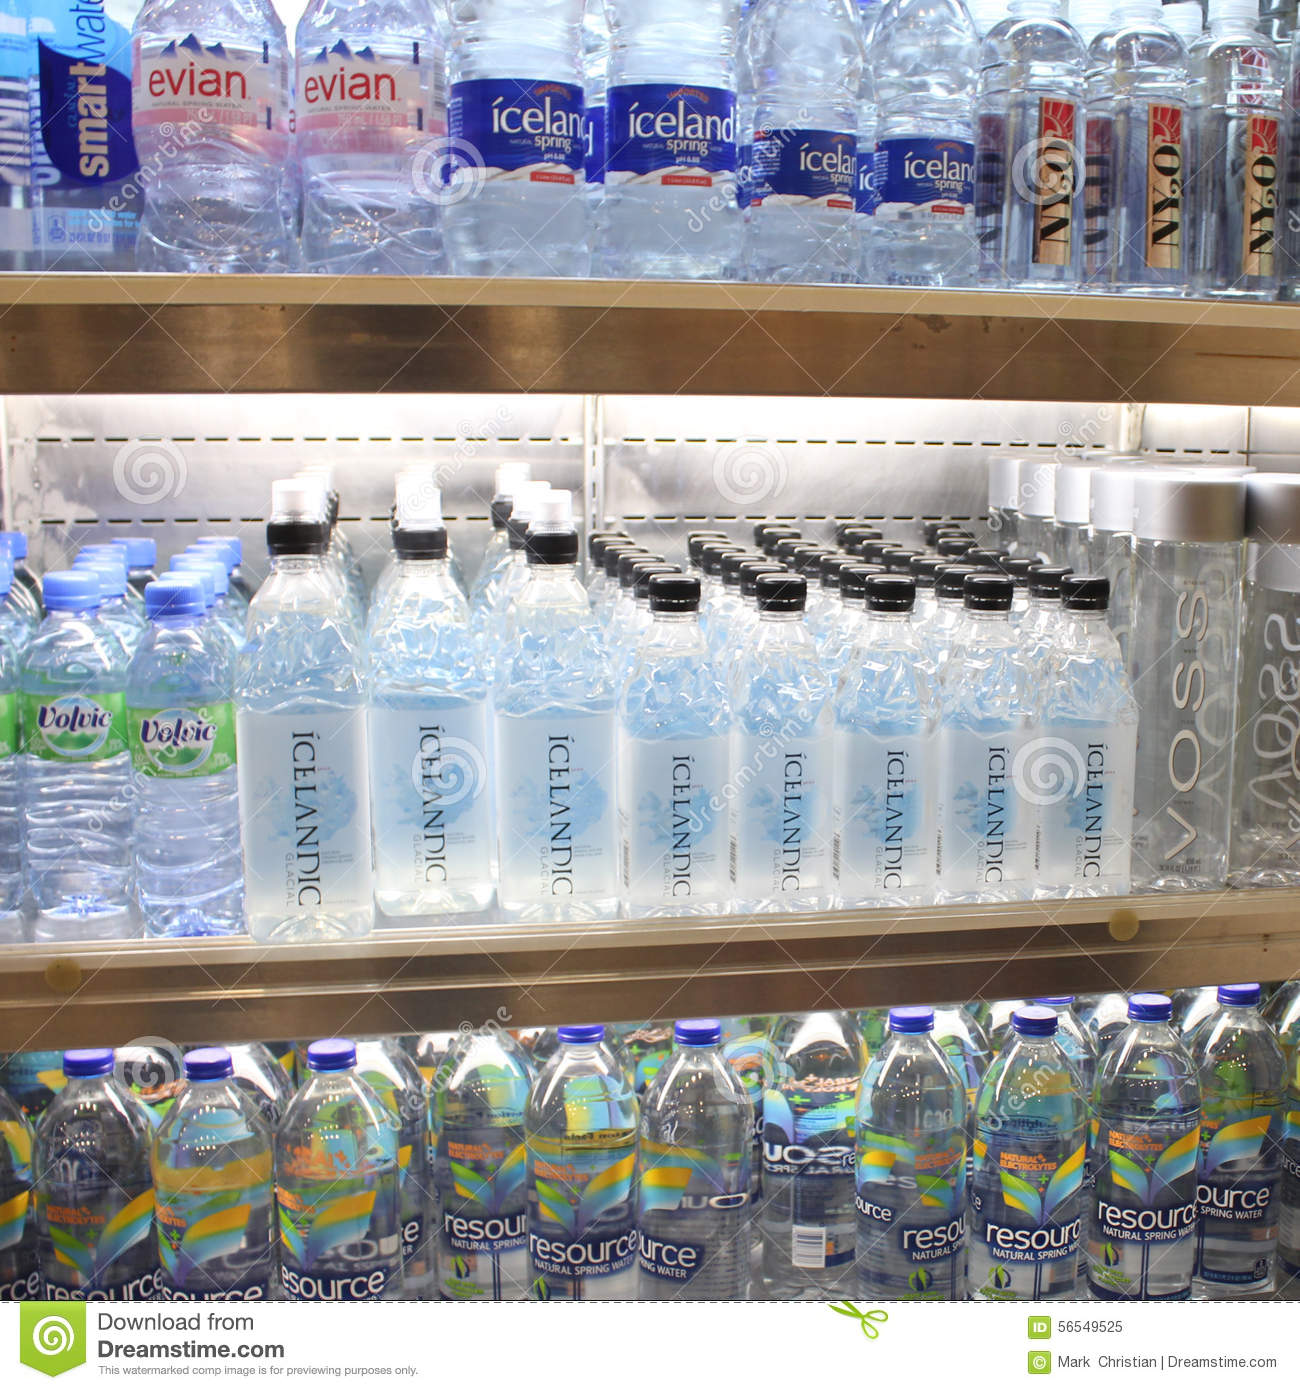evian: (127, 1, 296, 278), (294, 1, 458, 285)
